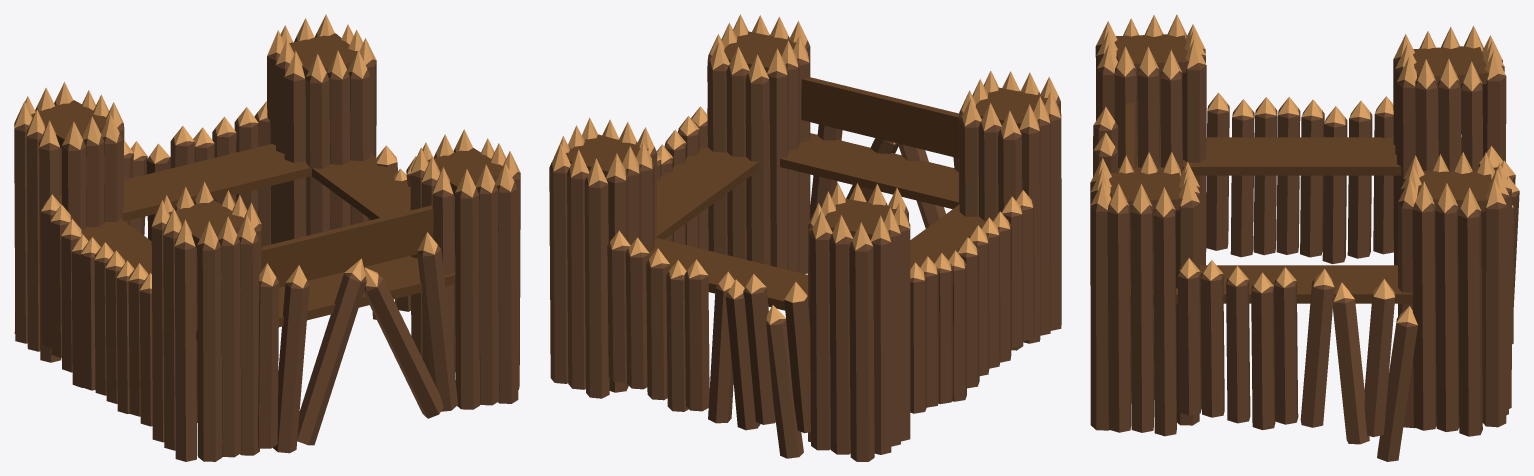
File: fortress.dae
3 renders of one model, left to right at view 1: azimuth 30°, elevation 25°; view 2: azimuth 150°, elevation 25°; view 3: azimuth 270°, elevation 25°, orthographic. The views are drawn at different scales.
Visible parts, largest first — view 1: wall.007, wall, wall.002, wall.005, Cube; view 2: wall.002, wall, wall.007, wall.005, Cube; view 3: wall.005, wall, wall.002, wall.007, Cube.
Part boxes in pixels (x1,y1,x2,y2): wall.007: (151, 181, 457, 461); wall: (14, 82, 152, 426); wall.002: (124, 14, 376, 246); wall.005: (368, 129, 520, 409); Cube: (60, 144, 455, 340); wall.002: (549, 117, 810, 458); wall: (808, 182, 1034, 461); wall.007: (801, 70, 1061, 350); wall.005: (656, 14, 810, 273); Cube: (648, 133, 985, 310); wall.005: (1090, 152, 1417, 461); wall: (1206, 26, 1506, 265); wall.002: (1398, 146, 1519, 436); wall.007: (1093, 14, 1206, 265); Cube: (1118, 137, 1476, 303).
Size of the model in its own units: 10.66 by 10.78 by 7.77.
